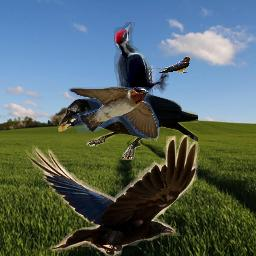Crow: (26, 135, 200, 256), (57, 86, 198, 160)
Swallow: (68, 87, 159, 139), (150, 56, 191, 73)
Woodpecker: (114, 22, 169, 141)
